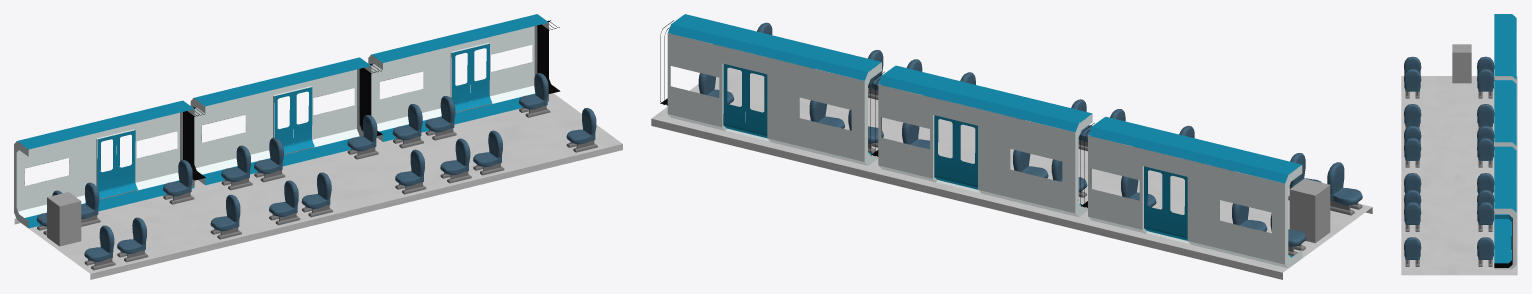
The model's file is Train_Moving.fbx.
3 renders of one model, left to right at view 1: azimuth 30°, elevation 25°; view 2: azimuth 150°, elevation 25°; view 3: azimuth 270°, elevation 25°, orthographic. The views are drawn at different scales.
Parts seen in each view (by area): view 1: FloorPlaceHolder, pasted__TrainCarriage2, pasted__TrainCarriage, pasted__TrainCarriage3, PlayerPlaceHolder2, TrainSeat16, TrainSeat18, TrainSeat1, TrainSeat8, TrainSeat14, TrainSeat12, TrainSeat19 (+10 smaller); view 2: pasted__TrainCarriage3, pasted__TrainCarriage2, pasted__TrainCarriage, FloorPlaceHolder, PlayerPlaceHolder2, TrainSeat1, TrainSeat10, TrainSeat16, TrainSeat3, TrainSeat5, TrainSeat20, TrainSeat14; view 3: FloorPlaceHolder, pasted__TrainCarriage, pasted__TrainCarriage2, pasted__TrainCarriage3, PlayerPlaceHolder2, TrainSeat3, TrainSeat10, TrainSeat2, TrainSeat11, TrainSeat20, TrainSeat16, TrainSeat17 (+11 smaller).
Part boxes in pixels (x1=…): FloorPlaceHolder: x1=14, y1=93, x2=622, y2=279; pasted__TrainCarriage2: x1=190, y1=57, x2=382, y2=185; pasted__TrainCarriage: x1=368, y1=14, x2=560, y2=141; pasted__TrainCarriage3: x1=14, y1=100, x2=205, y2=228; PlayerPlaceHolder2: x1=47, y1=192, x2=81, y2=246; TrainSeat16: x1=425, y1=96, x2=456, y2=140; TrainSeat18: x1=440, y1=138, x2=471, y2=183; TrainSeat1: x1=84, y1=225, x2=115, y2=270; TrainSeat8: x1=210, y1=194, x2=241, y2=239; TrainSeat14: x1=347, y1=115, x2=378, y2=159; TrainSeat12: x1=269, y1=180, x2=300, y2=225; TrainSeat19: x1=566, y1=108, x2=597, y2=152; pasted__TrainCarriage3: x1=1080, y1=116, x2=1302, y2=268; pasted__TrainCarriage2: x1=870, y1=65, x2=1092, y2=217; pasted__TrainCarriage: x1=660, y1=14, x2=881, y2=165; FloorPlaceHolder: x1=651, y1=67, x2=1372, y2=279; PlayerPlaceHolder2: x1=1289, y1=178, x2=1330, y2=243; TrainSeat1: x1=1327, y1=162, x2=1362, y2=215; TrainSeat10: x1=1013, y1=150, x2=1048, y2=178; TrainSeat16: x1=809, y1=100, x2=844, y2=128; TrainSeat3: x1=1232, y1=203, x2=1267, y2=231; TrainSeat5: x1=1121, y1=176, x2=1156, y2=207; TrainSeat20: x1=698, y1=73, x2=734, y2=104; TrainSeat14: x1=902, y1=123, x2=929, y2=149; FloorPlaceHolder: x1=1401, y1=76, x2=1517, y2=275; pasted__TrainCarriage: x1=1494, y1=146, x2=1516, y2=269; pasted__TrainCarriage2: x1=1494, y1=80, x2=1516, y2=150; pasted__TrainCarriage3: x1=1494, y1=14, x2=1516, y2=83; PlayerPlaceHolder2: x1=1452, y1=44, x2=1471, y2=83; TrainSeat3: x1=1477, y1=69, x2=1494, y2=98; TrainSeat10: x1=1477, y1=138, x2=1494, y2=167; TrainSeat2: x1=1404, y1=69, x2=1421, y2=98; TrainSeat11: x1=1404, y1=138, x2=1421, y2=167; TrainSeat20: x1=1477, y1=237, x2=1494, y2=266; TrainSeat16: x1=1477, y1=202, x2=1494, y2=231; TrainSeat17: x1=1404, y1=202, x2=1421, y2=231.
Size of the model in its own units: 24.41 by 3.78 by 6.
